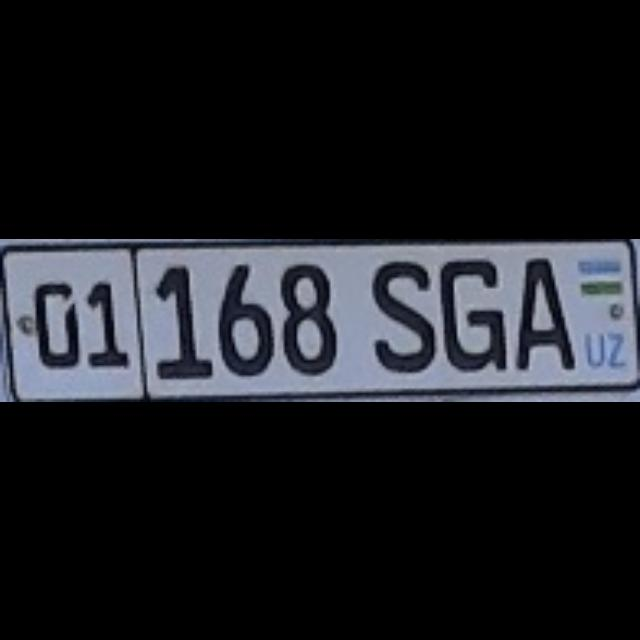0: (29, 278, 75, 362)
1: (150, 257, 206, 375), (82, 274, 124, 362)
6: (215, 258, 271, 372)
8: (274, 258, 334, 368)
A: (512, 251, 572, 365)
G: (434, 251, 504, 365)
S: (366, 254, 430, 366)
